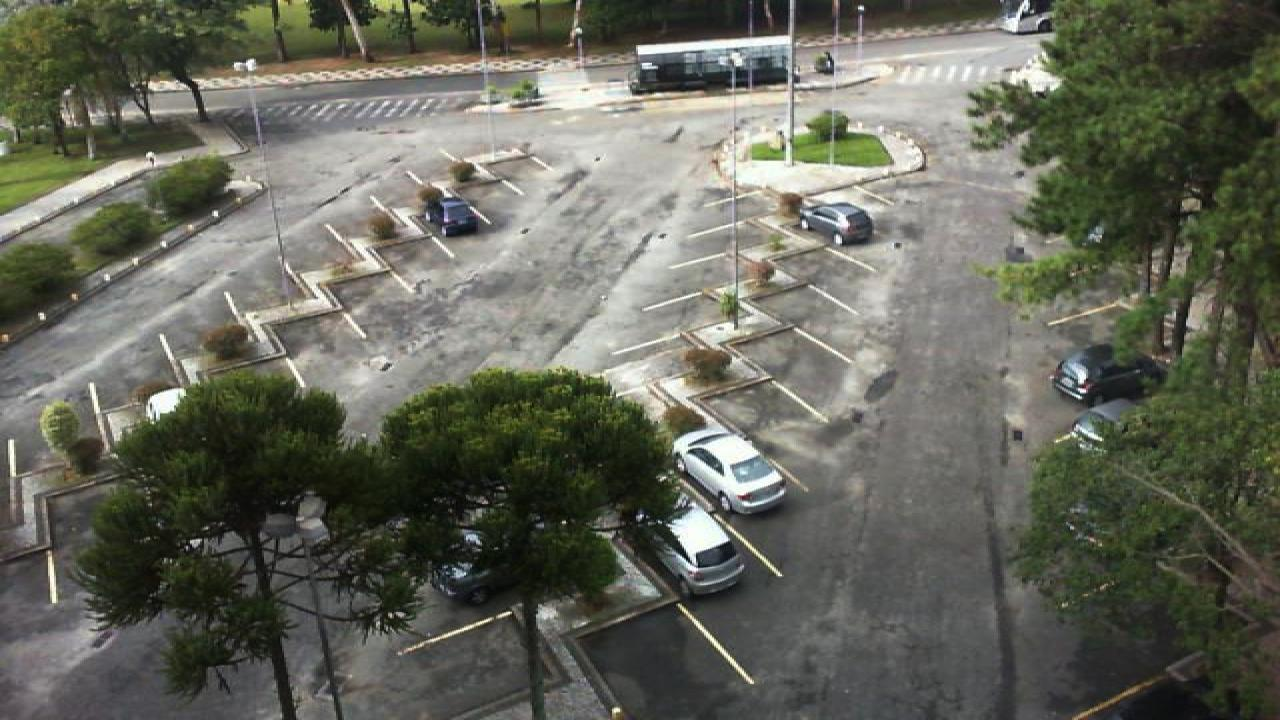Car: (672, 426, 790, 514), (648, 495, 746, 596), (1050, 343, 1160, 405), (426, 548, 524, 606), (1066, 398, 1152, 450), (798, 200, 876, 246), (424, 197, 482, 237), (144, 386, 194, 425)
